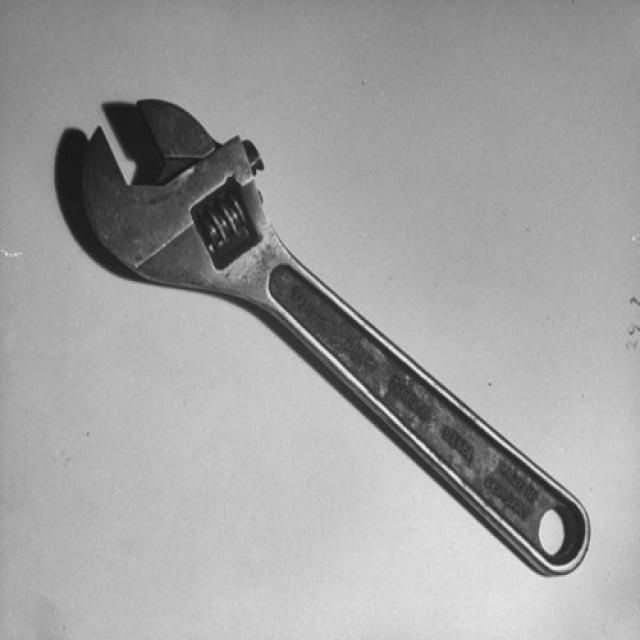wrench: (44, 31, 618, 640)
